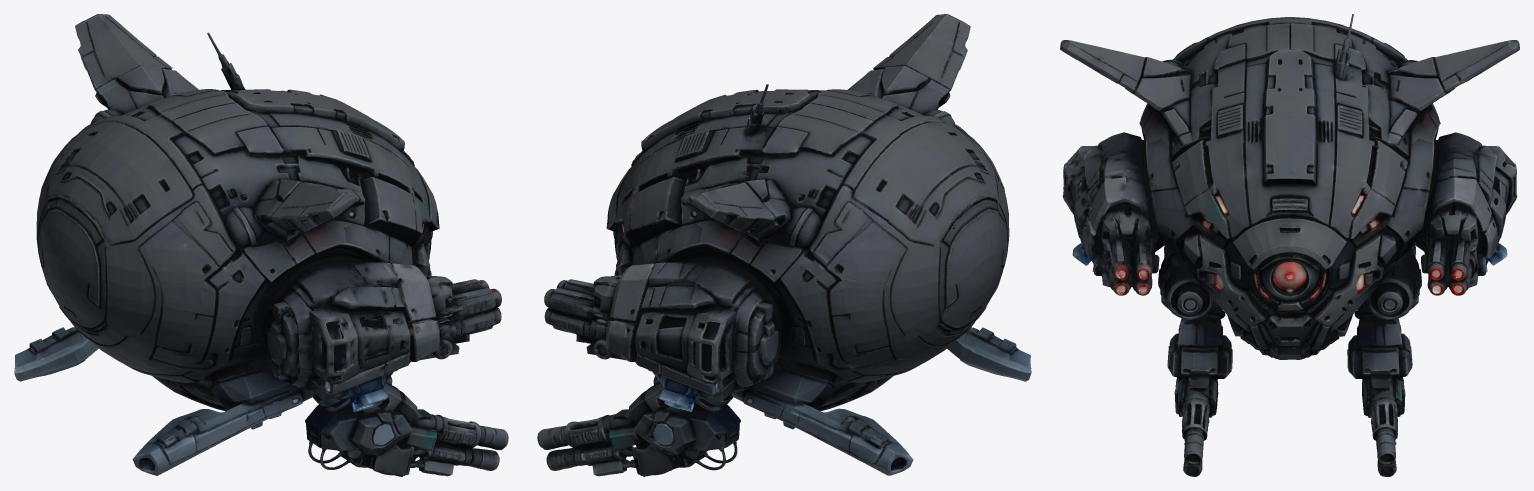
File: Swarm Drone.glb
3 renders of one model, left to right at view 1: azimuth 30°, elevation 25°; view 2: azimuth 150°, elevation 25°; view 3: azimuth 270°, elevation 25°, orthographic. The views are drawn at different scales.
Visible parts, largest first — view 1: tripo_part_7, tripo_part_0, tripo_part_5, tripo_part_20, tripo_part_3, tripo_part_1, tripo_part_4, tripo_part_17, tripo_part_2, tripo_part_8, tripo_part_11, tripo_part_12; view 2: tripo_part_7, tripo_part_22, tripo_part_14, tripo_part_1, tripo_part_17, tripo_part_20, tripo_part_15, tripo_part_3, tripo_part_13, tripo_part_19, tripo_part_8, tripo_part_23 (+1 smaller); view 3: tripo_part_7, tripo_part_0, tripo_part_22, tripo_part_10, tripo_part_14, tripo_part_5, tripo_part_1, tripo_part_20, tripo_part_13, tripo_part_4, tripo_part_11, tripo_part_18 (+3 smaller).
Part boxes in pixels (left/top/right/bottom): tripo_part_7: left=36, top=86, right=439, bottom=382; tripo_part_0: left=260, top=260, right=501, bottom=411; tripo_part_5: left=305, top=382, right=508, bottom=476; tripo_part_20: left=75, top=14, right=198, bottom=115; tripo_part_3: left=132, top=371, right=303, bottom=475; tripo_part_1: left=251, top=173, right=357, bottom=241; tripo_part_4: left=217, top=357, right=356, bottom=413; tripo_part_17: left=14, top=327, right=98, bottom=381; tripo_part_2: left=225, top=207, right=263, bottom=247; tripo_part_8: left=152, top=376, right=227, bottom=411; tripo_part_11: left=254, top=89, right=341, bottom=109; tripo_part_12: left=207, top=32, right=245, bottom=89; tripo_part_7: left=606, top=89, right=1009, bottom=382; tripo_part_22: left=544, top=251, right=783, bottom=400; tripo_part_14: left=537, top=382, right=740, bottom=476; tripo_part_1: left=847, top=14, right=970, bottom=115; tripo_part_17: left=743, top=394, right=913, bottom=475; tripo_part_20: left=689, top=179, right=795, bottom=241; tripo_part_15: left=731, top=358, right=840, bottom=429; tripo_part_3: left=947, top=327, right=1031, bottom=381; tripo_part_13: left=615, top=177, right=677, bottom=240; tripo_part_19: left=776, top=207, right=823, bottom=248; tripo_part_8: left=819, top=376, right=893, bottom=411; tripo_part_23: left=657, top=374, right=695, bottom=411; tripo_part_7: left=1139, top=17, right=1440, bottom=359; tripo_part_0: left=1062, top=132, right=1178, bottom=295; tripo_part_22: left=1415, top=132, right=1517, bottom=295; tripo_part_10: left=1183, top=228, right=1399, bottom=359; tripo_part_14: left=1347, top=252, right=1421, bottom=476; tripo_part_5: left=1167, top=314, right=1232, bottom=476; tripo_part_1: left=1060, top=40, right=1198, bottom=111; tripo_part_20: left=1389, top=40, right=1519, bottom=110; tripo_part_13: left=1349, top=141, right=1407, bottom=238; tripo_part_4: left=1158, top=243, right=1225, bottom=319; tripo_part_11: left=1274, top=61, right=1315, bottom=119; tripo_part_18: left=1387, top=105, right=1431, bottom=147.
Size of the model in its own units: 0.8867 by 0.9032 by 0.9963.
Materials: 24 (24 with a texture image).
